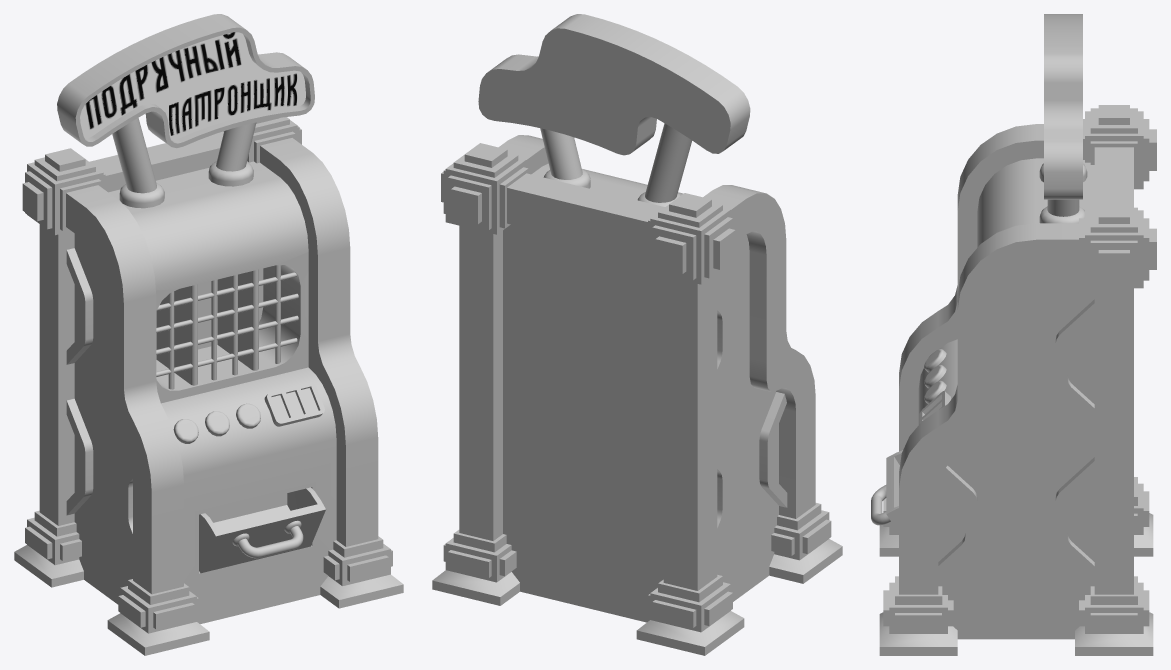
Rendered from VendingMachineAmmo.fbx.
The picture shows the model from 3 angles, left to right: view 1: azimuth 30°, elevation 25°; view 2: azimuth 150°, elevation 25°; view 3: azimuth 270°, elevation 25°; orthographic projection. The views are drawn at different scales.
Visible parts, largest first — view 1: VendingMachine Ammo; view 2: VendingMachine Ammo; view 3: VendingMachine Ammo.
Boxes of the visible parts, x1,y1,x2,y2 form: VendingMachine Ammo: (14, 14, 403, 655); VendingMachine Ammo: (432, 14, 842, 655); VendingMachine Ammo: (871, 14, 1156, 655).
Bounding box in the file's own units: 139 × 266 × 124.
